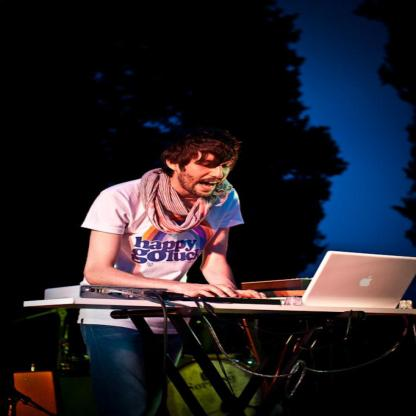board: (258, 249, 412, 306)
